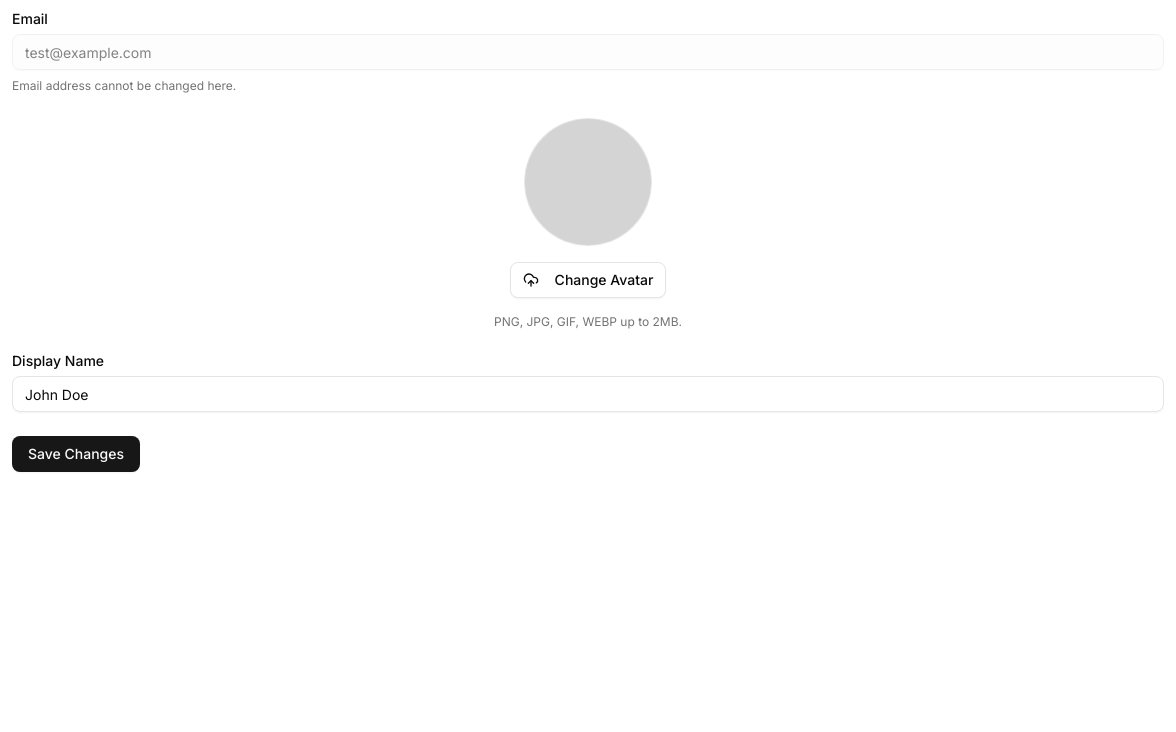
Profile Update Flow Integration › Profile Information Update › should handle profile update validation errors
Clear the field showing "John Doe": (588, 394) x1=12 y1=376 x2=1164 y2=412
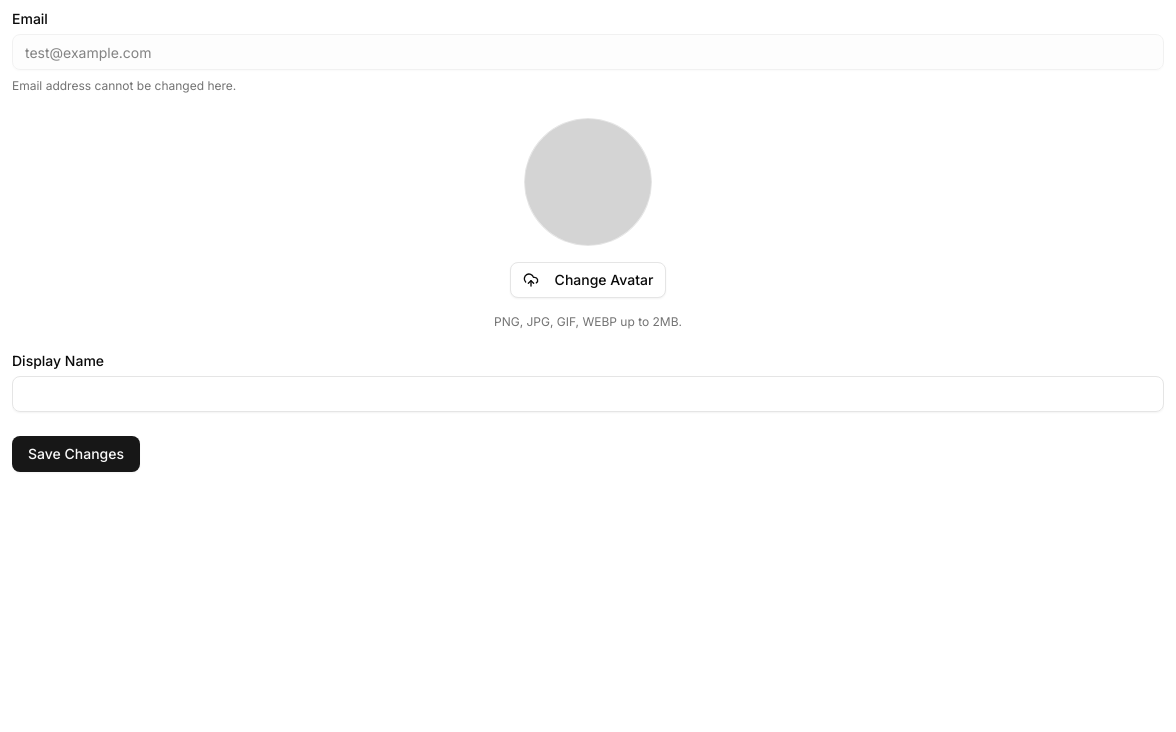
Click the button "Save Changes": (76, 454) x1=12 y1=436 x2=140 y2=472
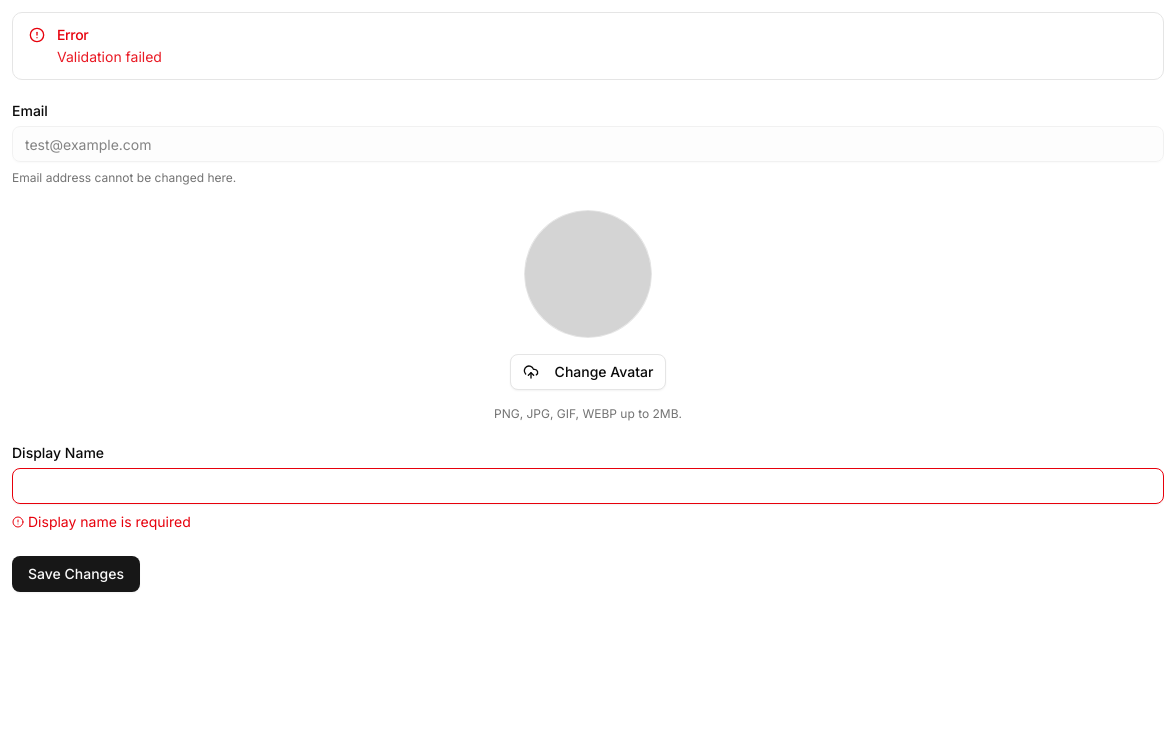
Expected: the text "Display name is required" is shown, x1=28 y1=512 x2=191 y2=532
